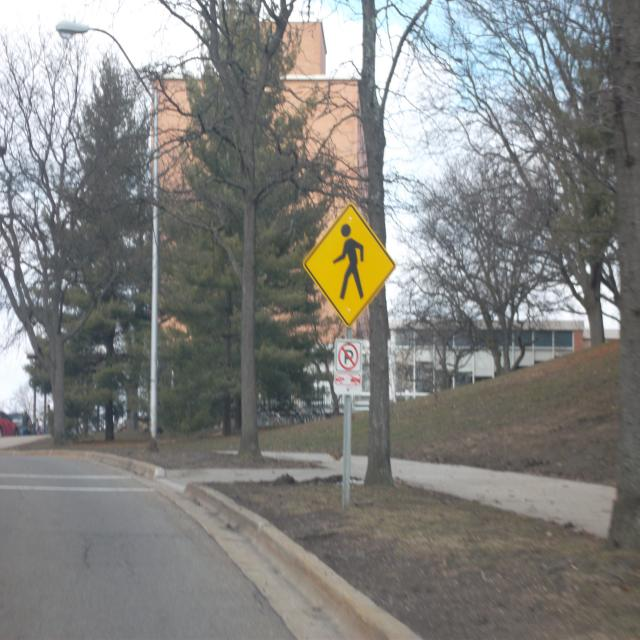regulatory: (332, 339, 366, 373)
warning: (302, 205, 396, 328)
